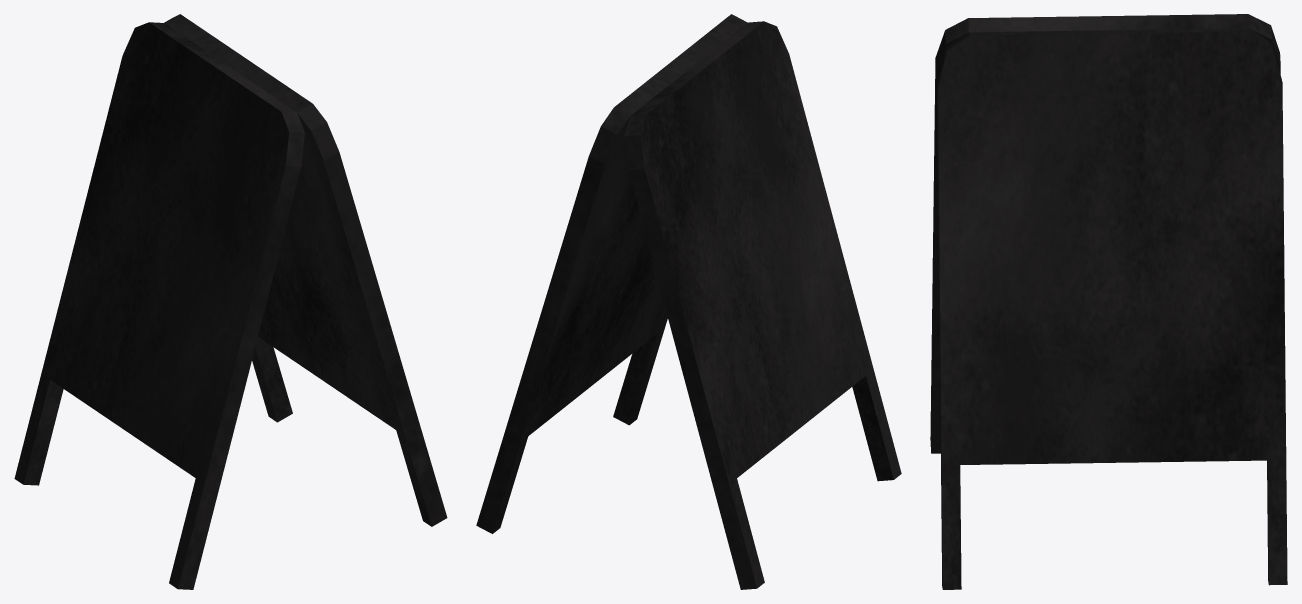
The model's file is CafeSign.fbx.
3 renders of one model, left to right at view 1: azimuth 30°, elevation 25°; view 2: azimuth 150°, elevation 25°; view 3: azimuth 270°, elevation 25°, orthographic. The views are drawn at different scales.
Visible parts, largest first — view 1: CafeSign; view 2: CafeSign; view 3: CafeSign.
Part boxes in pixels (x1,y1,x2,y2): CafeSign: (14,14,447,589); CafeSign: (476,14,901,589); CafeSign: (930,14,1287,589).
Size of the model in its own units: 73.62 by 109 by 71.44.
